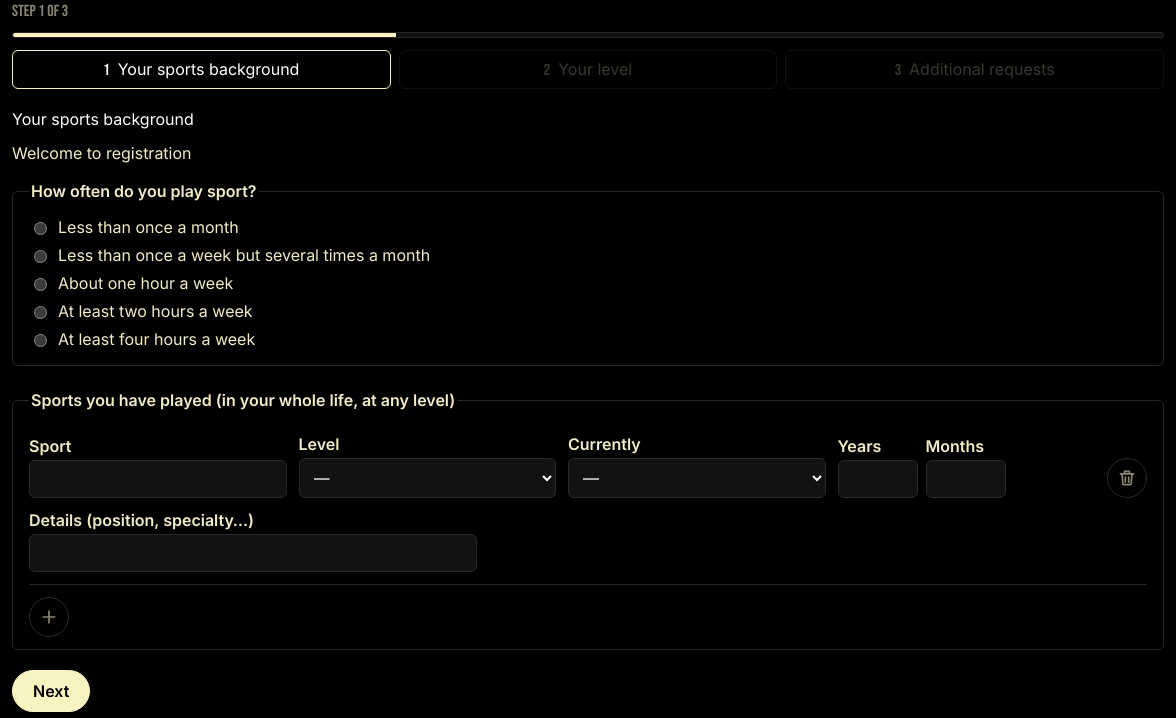
Scenario: RegistrationForm › asks for an email when the account has none
Click the radio button labelled "Less than once a month".
click(40, 228)  # box [34,222,47,235]
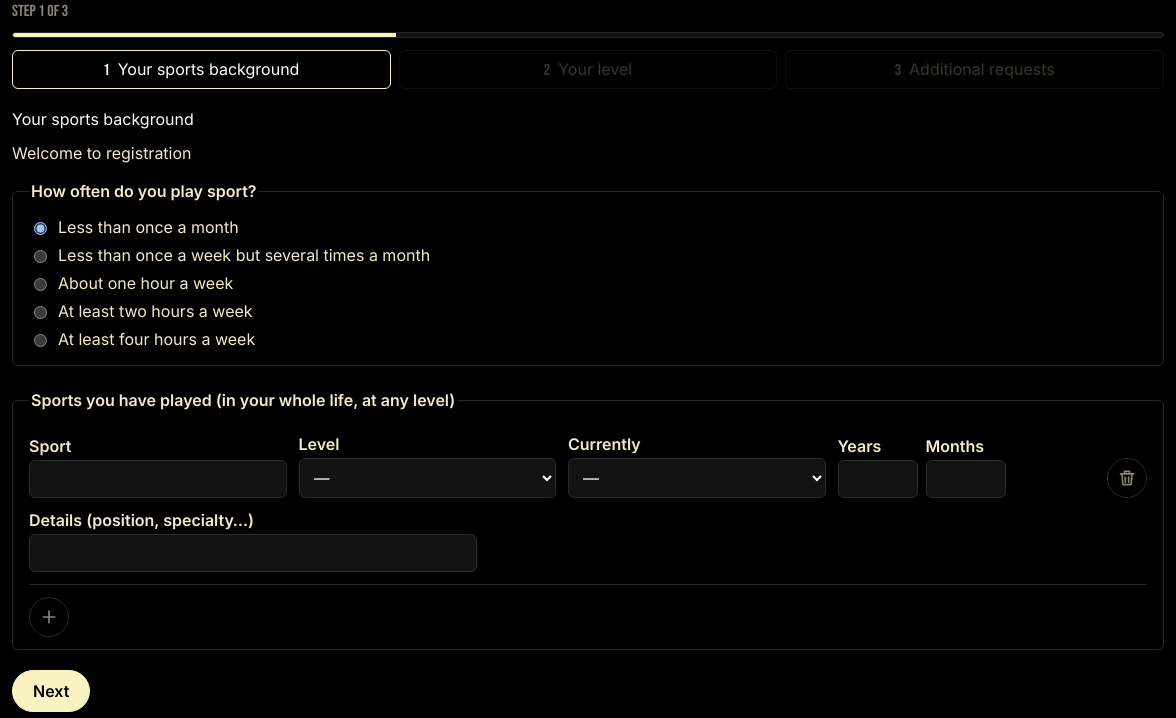
Click the button "Next".
click(51, 691)  # box [12,670,90,712]
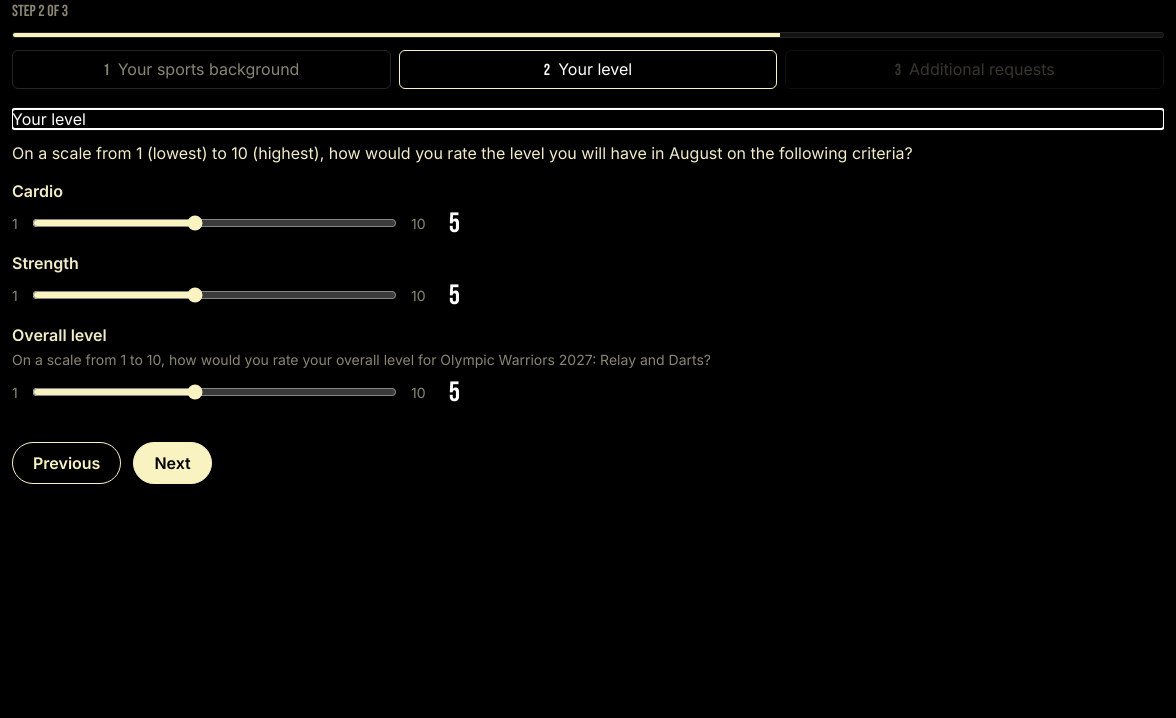
Click the button "Next".
click(173, 463)  # box [133,442,212,484]
(page scrolled)
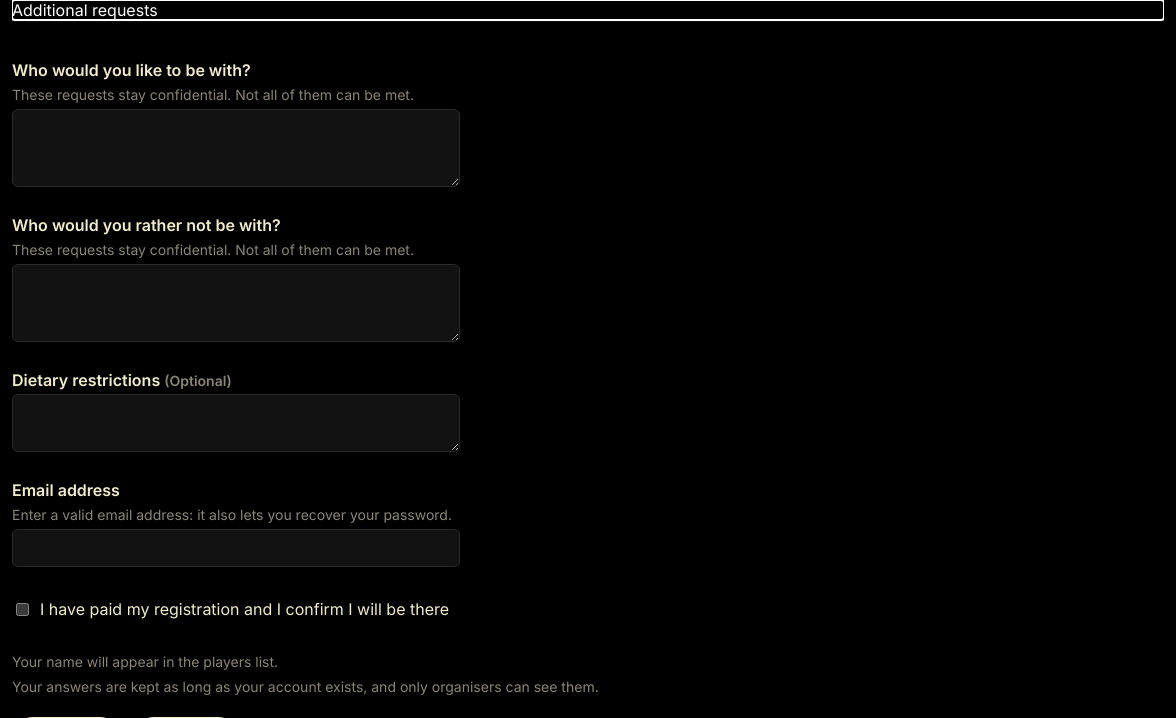
expect the text "also lets you recover your password" is shown: met, box [12,506,452,523]
